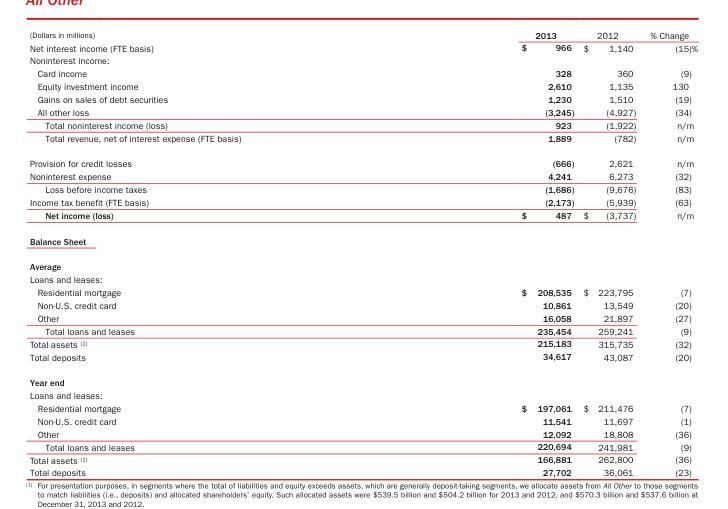table: (28, 29, 697, 477)
table column: (28, 29, 380, 477), (380, 29, 577, 477), (577, 29, 642, 477), (642, 29, 697, 477)
table column header: (28, 29, 697, 40)
table projected row header: (28, 227, 697, 253), (28, 253, 697, 272), (28, 369, 697, 388), (28, 53, 697, 66), (28, 272, 697, 285), (28, 388, 697, 401)
table row: (28, 227, 697, 253), (28, 349, 697, 369), (28, 131, 697, 150), (28, 150, 697, 169), (28, 208, 697, 227), (28, 253, 697, 272), (28, 369, 697, 388), (28, 40, 697, 53), (28, 53, 697, 66), (28, 66, 697, 79), (28, 79, 697, 92), (28, 92, 697, 105), (28, 105, 697, 118), (28, 118, 697, 131), (28, 169, 697, 182), (28, 182, 697, 195), (28, 195, 697, 208), (28, 272, 697, 285), (28, 285, 697, 298), (28, 298, 697, 311), (28, 311, 697, 324), (28, 324, 697, 337), (28, 388, 697, 401), (28, 401, 697, 414), (28, 414, 697, 427), (28, 427, 697, 440), (28, 452, 697, 465), (28, 337, 697, 349), (28, 440, 697, 452), (28, 465, 697, 477), (28, 29, 697, 40)
